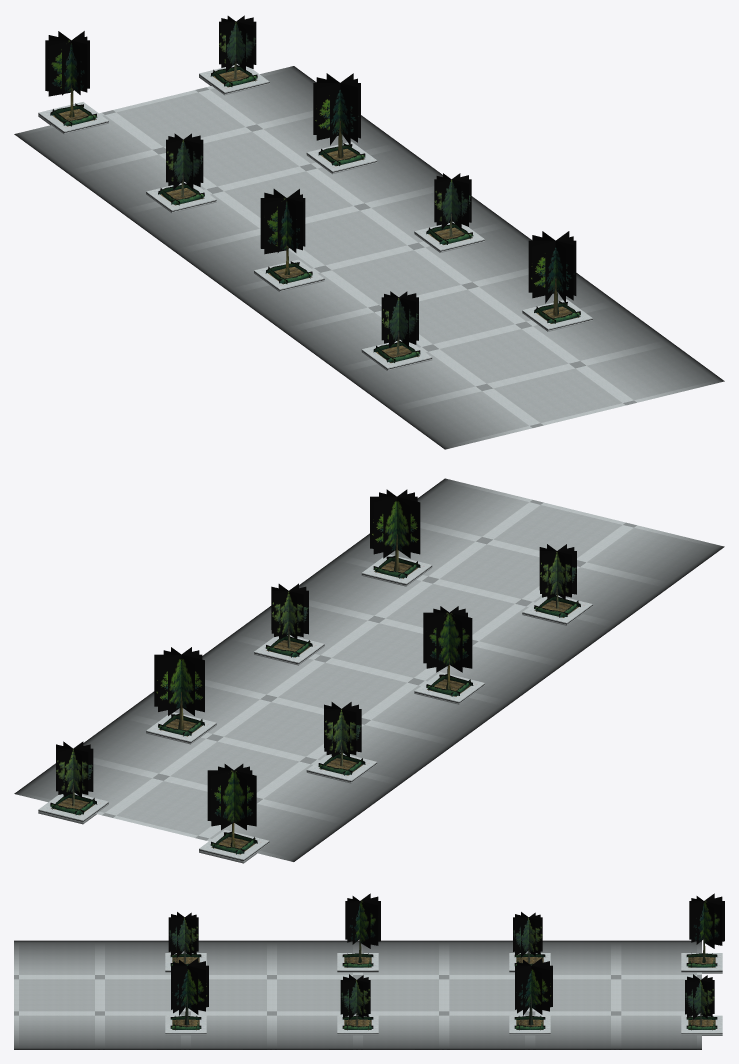
File: KOMIKE_00.glb
The picture shows the model from 3 angles, top to bottom: view 1: azimuth 30°, elevation 25°; view 2: azimuth 150°, elevation 25°; view 3: azimuth 270°, elevation 25°; orthographic projection. The views are drawn at different scales.
Visible parts, largest first — view 1: st1, bone6, bone2, bone4, bone01; view 2: st1, bone2, bone6, bone01, bone4; view 3: st1, bone4, bone01, bone6, bone2.
Part boxes in pixels (left/top/right/bottom): st1: left=14, top=66, right=724, bottom=449; bone6: left=361, top=231, right=592, bottom=370; bone2: left=146, top=73, right=377, bottom=213; bone4: left=254, top=173, right=484, bottom=291; bone01: left=38, top=15, right=269, bottom=134; st1: left=14, top=478, right=724, bottom=861; bone2: left=146, top=647, right=377, bottom=783; bone6: left=361, top=489, right=592, bottom=625; bone01: left=38, top=741, right=269, bottom=863; bone4: left=254, top=583, right=484, bottom=704; st1: left=14, top=940, right=701, bottom=1049; bone4: left=337, top=893, right=380, bottom=1035; bone01: left=681, top=893, right=724, bottom=1035; bone6: left=165, top=912, right=208, bottom=1035; bone2: left=509, top=912, right=552, bottom=1035.
Bounding box in the file's own units: 75 × 20.36 × 207.
21 materials, 21 textured.
